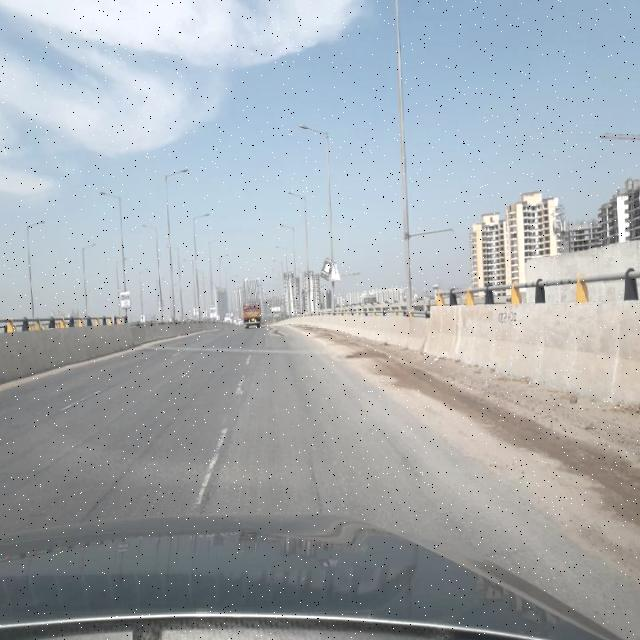D44: (195, 417, 237, 506)
